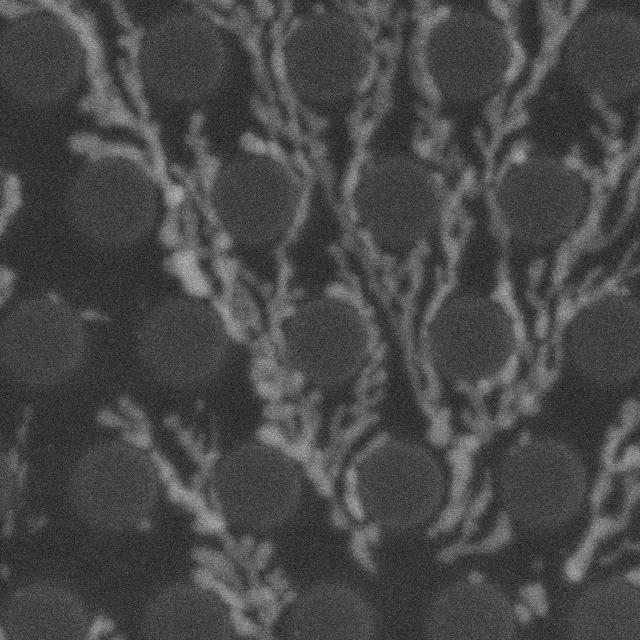Dendrite: (100, 396, 337, 640), (213, 248, 354, 530), (208, 0, 334, 286), (455, 255, 628, 435), (0, 0, 165, 173), (345, 212, 452, 448), (71, 133, 213, 297), (172, 112, 261, 345), (476, 0, 591, 167), (563, 358, 640, 582), (334, 0, 405, 234), (324, 244, 388, 479), (476, 141, 530, 398), (562, 97, 632, 263), (405, 0, 463, 171), (429, 156, 482, 317), (564, 471, 640, 582), (343, 434, 388, 572), (426, 433, 482, 540), (435, 471, 494, 565), (108, 0, 146, 105), (485, 0, 527, 93), (439, 517, 513, 562), (588, 536, 640, 569), (517, 584, 547, 624), (463, 567, 493, 583), (529, 556, 545, 576)
